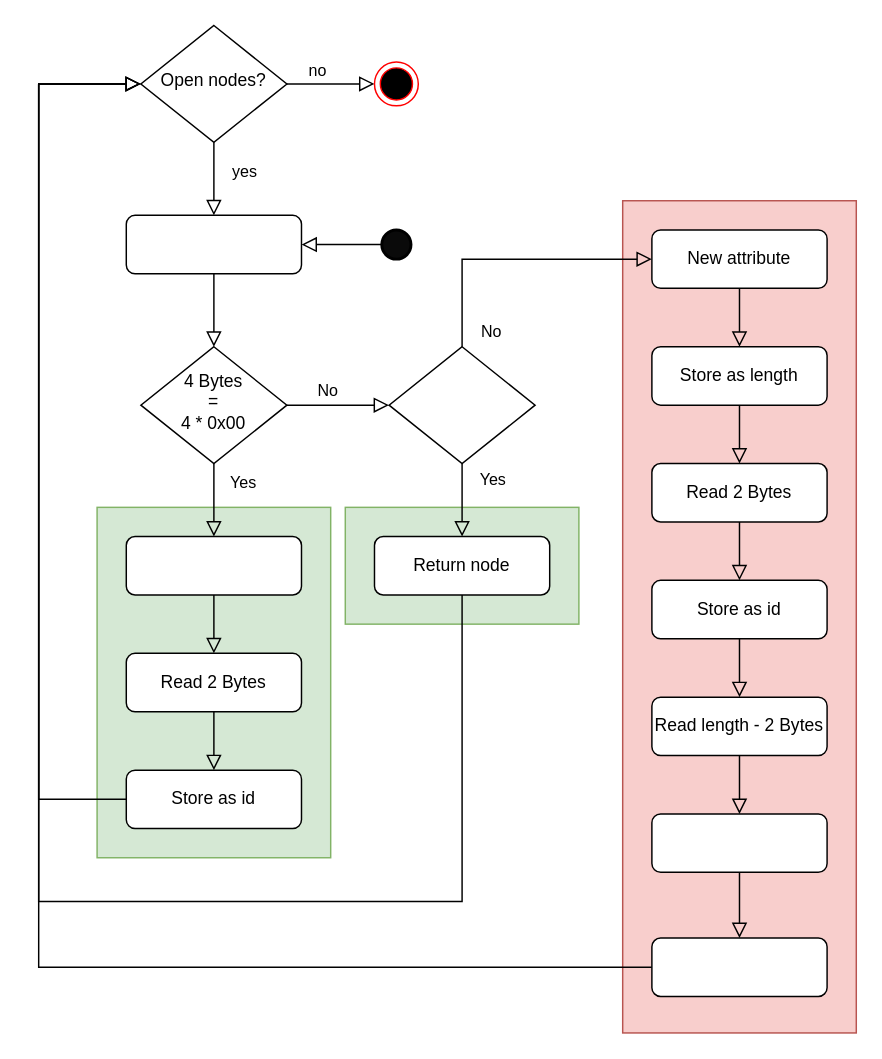
The diagram is 882 pixels wide and 1059 high, and some of its shapes have lost their labels. Each missing label, with the centre of its shape:
"4 Bytes = 4 * 0xFF" belongs at point 461,404.
"New node" belongs at point 213,565.
"Read 4 Bytes" belongs at point 213,244.
"Return attribute" belongs at point 738,966.
"Store as data" belongs at point 738,842.
